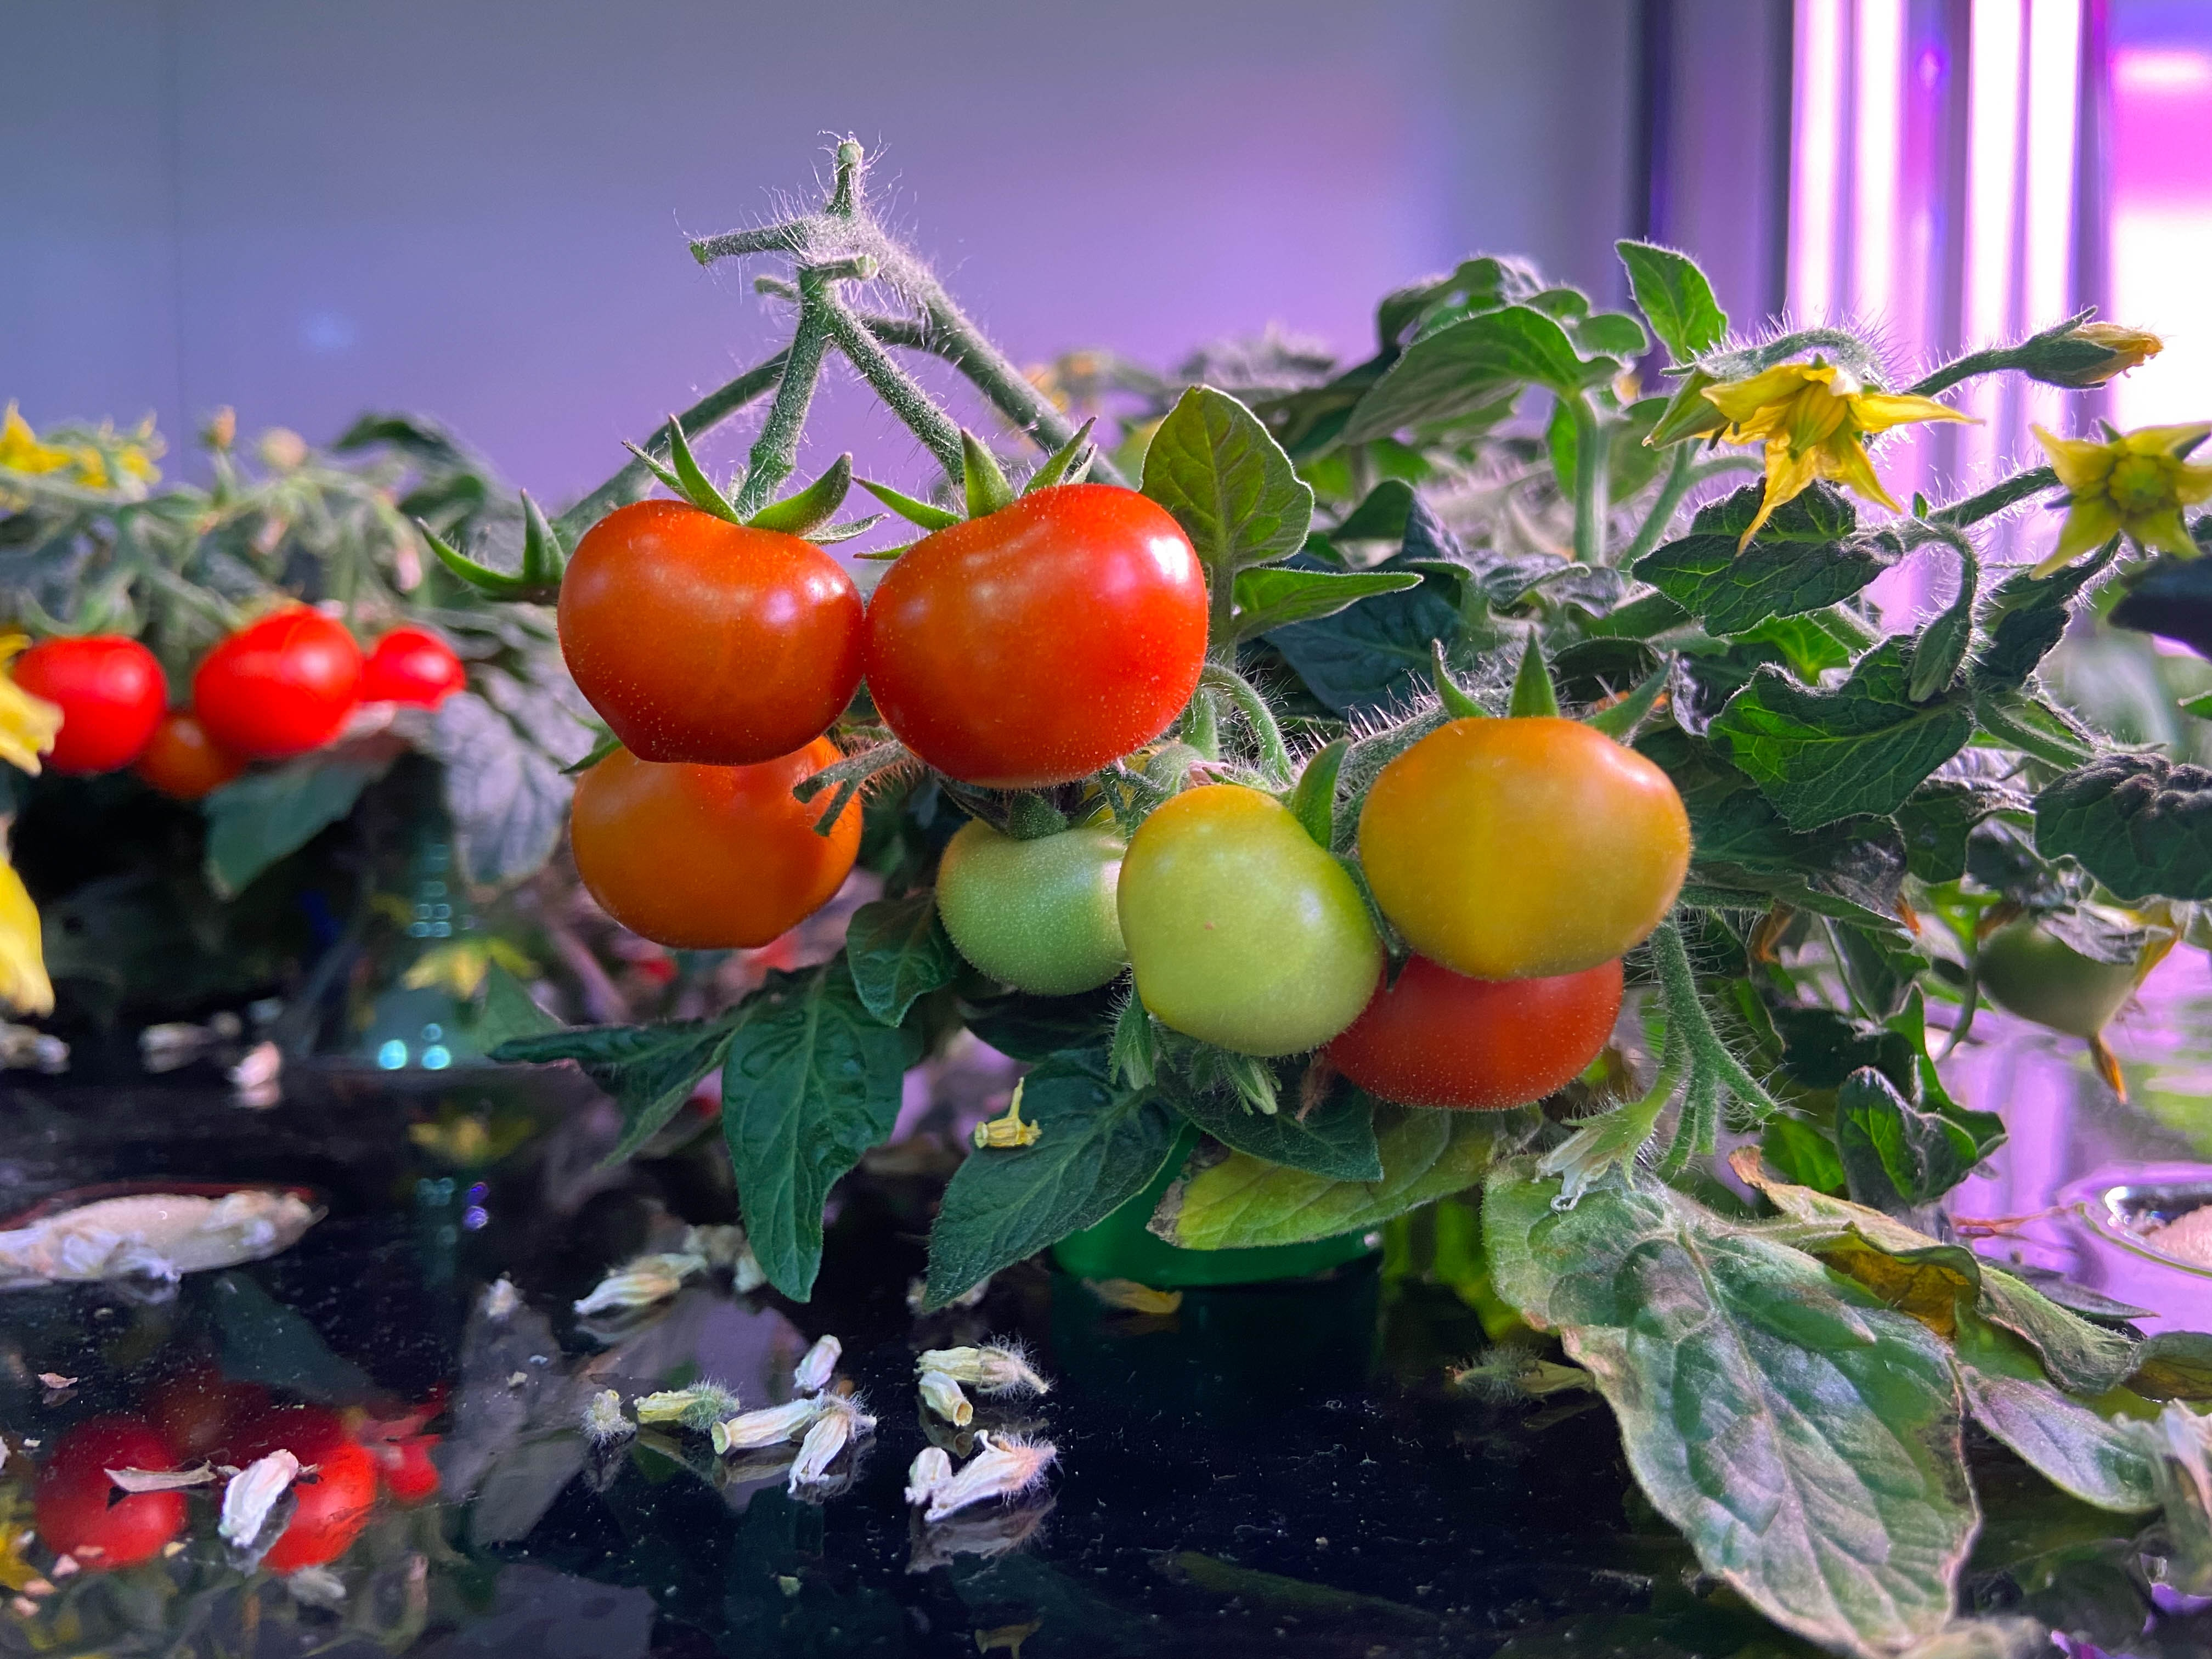green: (934, 807, 1146, 995), (1959, 877, 2168, 1039)
red: (864, 476, 1214, 793), (1360, 702, 1693, 981), (557, 490, 864, 765), (1118, 779, 1381, 1056), (566, 725, 859, 948), (1322, 924, 1629, 1112), (193, 606, 368, 756), (226, 1406, 376, 1575), (44, 1392, 188, 1563), (10, 624, 162, 770), (343, 1363, 474, 1511), (134, 704, 249, 798), (354, 626, 465, 720)
